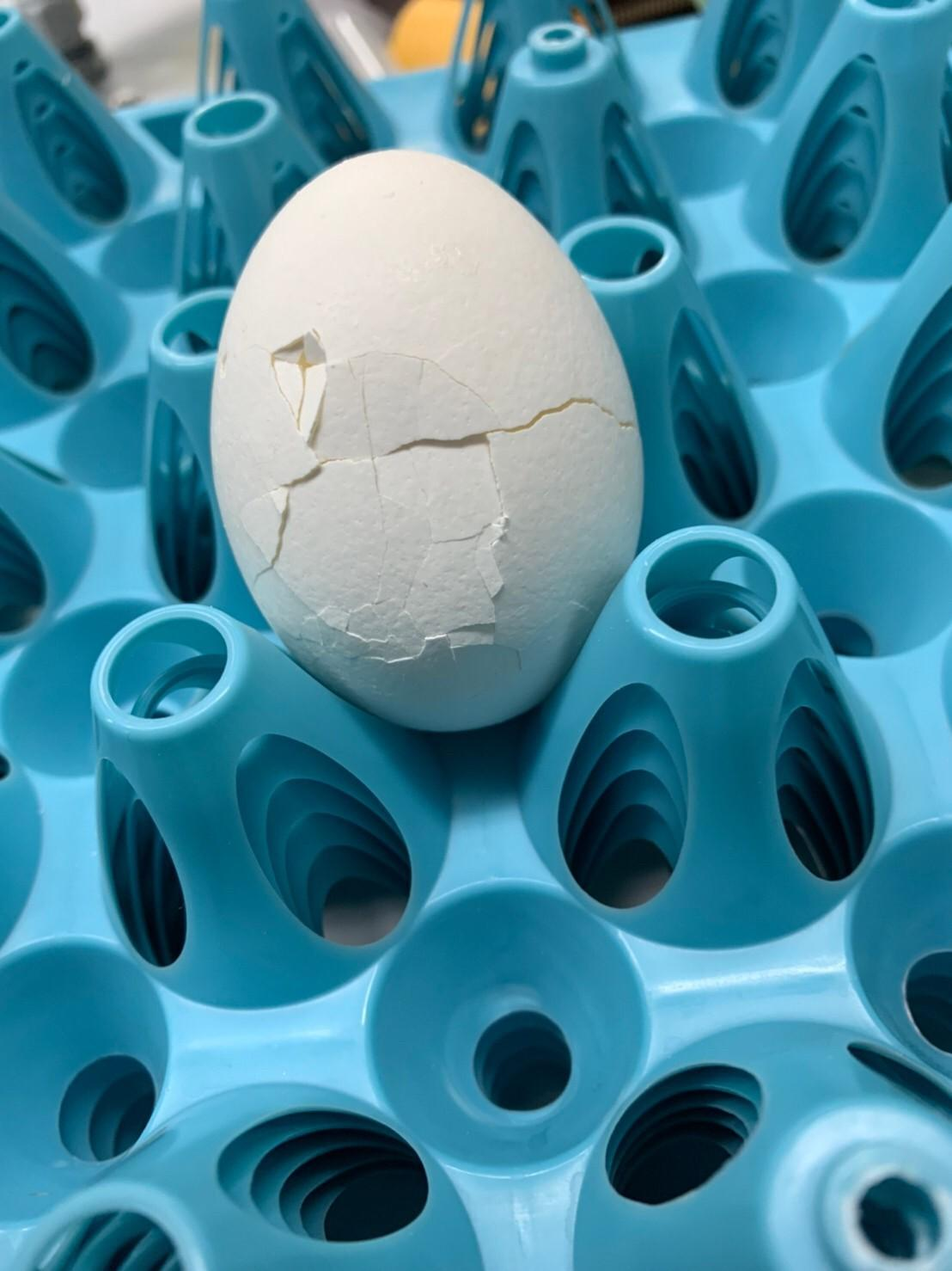egg: (202, 137, 651, 741)
